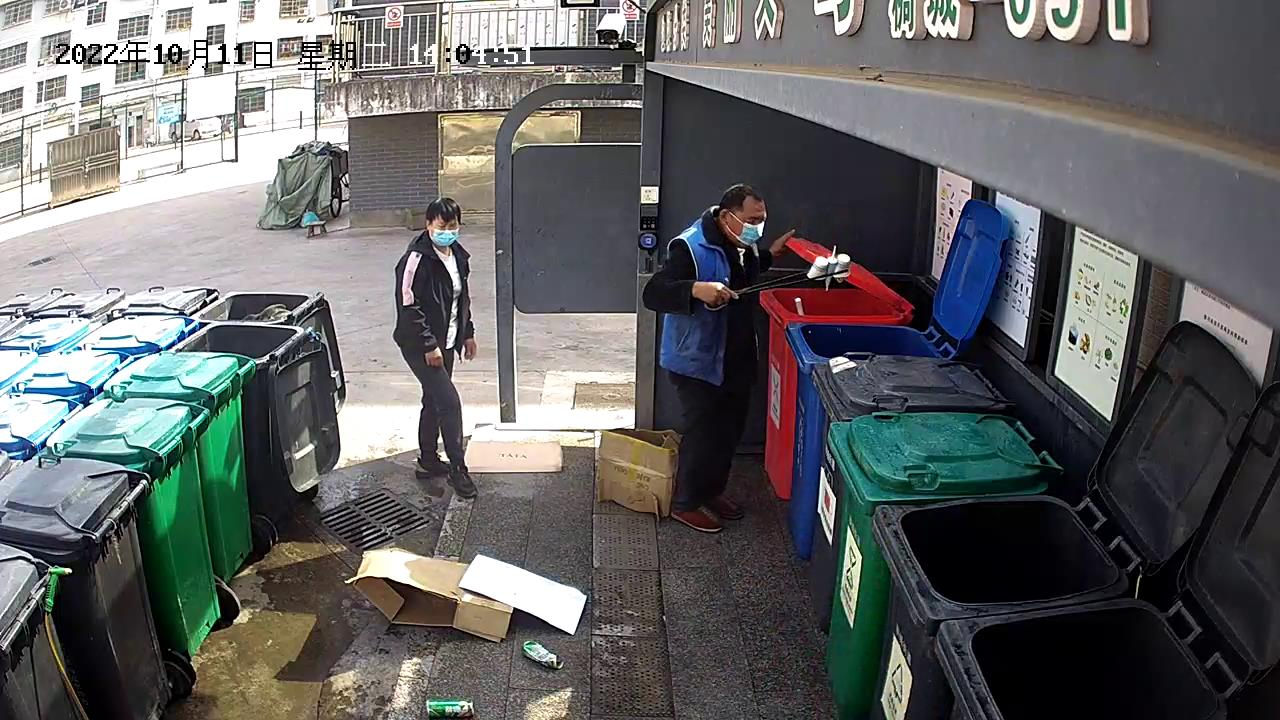lvzhipin: (520, 634, 567, 673), (423, 695, 476, 718)
person: (389, 196, 481, 500)
worker: (640, 184, 796, 536)
zhizhipin: (342, 545, 589, 645), (595, 425, 685, 523), (462, 435, 565, 477)
